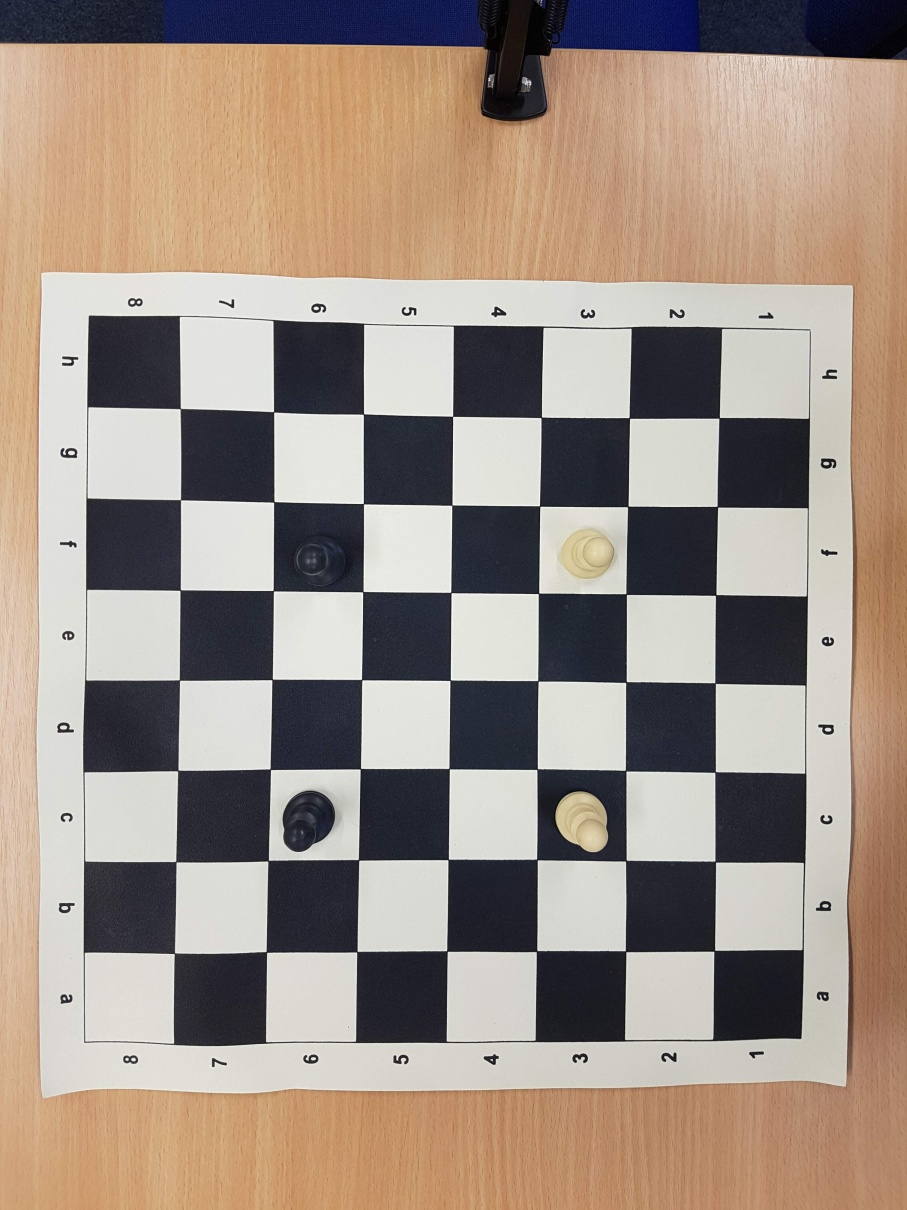chess_pawn: (554, 791, 610, 852), (282, 791, 336, 854), (292, 533, 347, 590), (559, 528, 615, 581)
